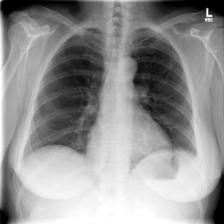normal: (18, 20, 210, 188)
